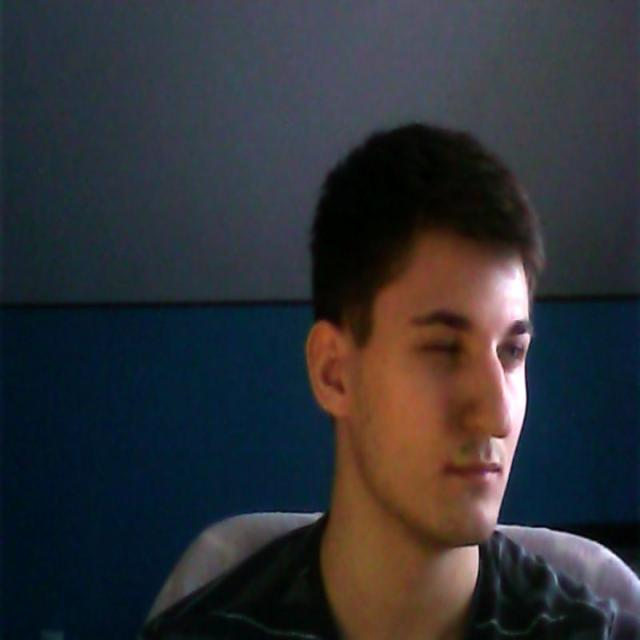Eyeclosed: (417, 332, 461, 368)
Eyeopen: (498, 340, 525, 368)
